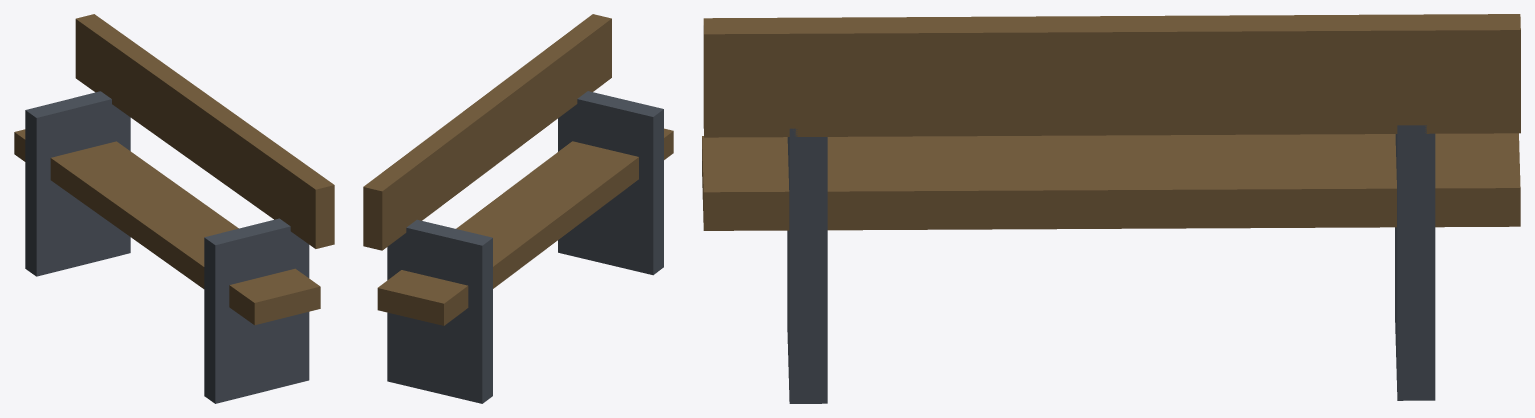
Rendered from cell-405_270.glb.
3 views of the same model, side by side, from view 1: azimuth 30°, elevation 25°; view 2: azimuth 150°, elevation 25°; view 3: azimuth 270°, elevation 25° (orthographic). The views are drawn at different scales.
Visible parts, largest first — view 1: cell-405_270; view 2: cell-405_270; view 3: cell-405_270.
Part boxes in pixels (box(x1,y1,x2,y2)): cell-405_270: box(14, 14, 334, 403); cell-405_270: box(363, 14, 673, 403); cell-405_270: box(702, 14, 1520, 403).
Bounding box in the file's own units: 0.2094 × 0.43 × 0.862.
